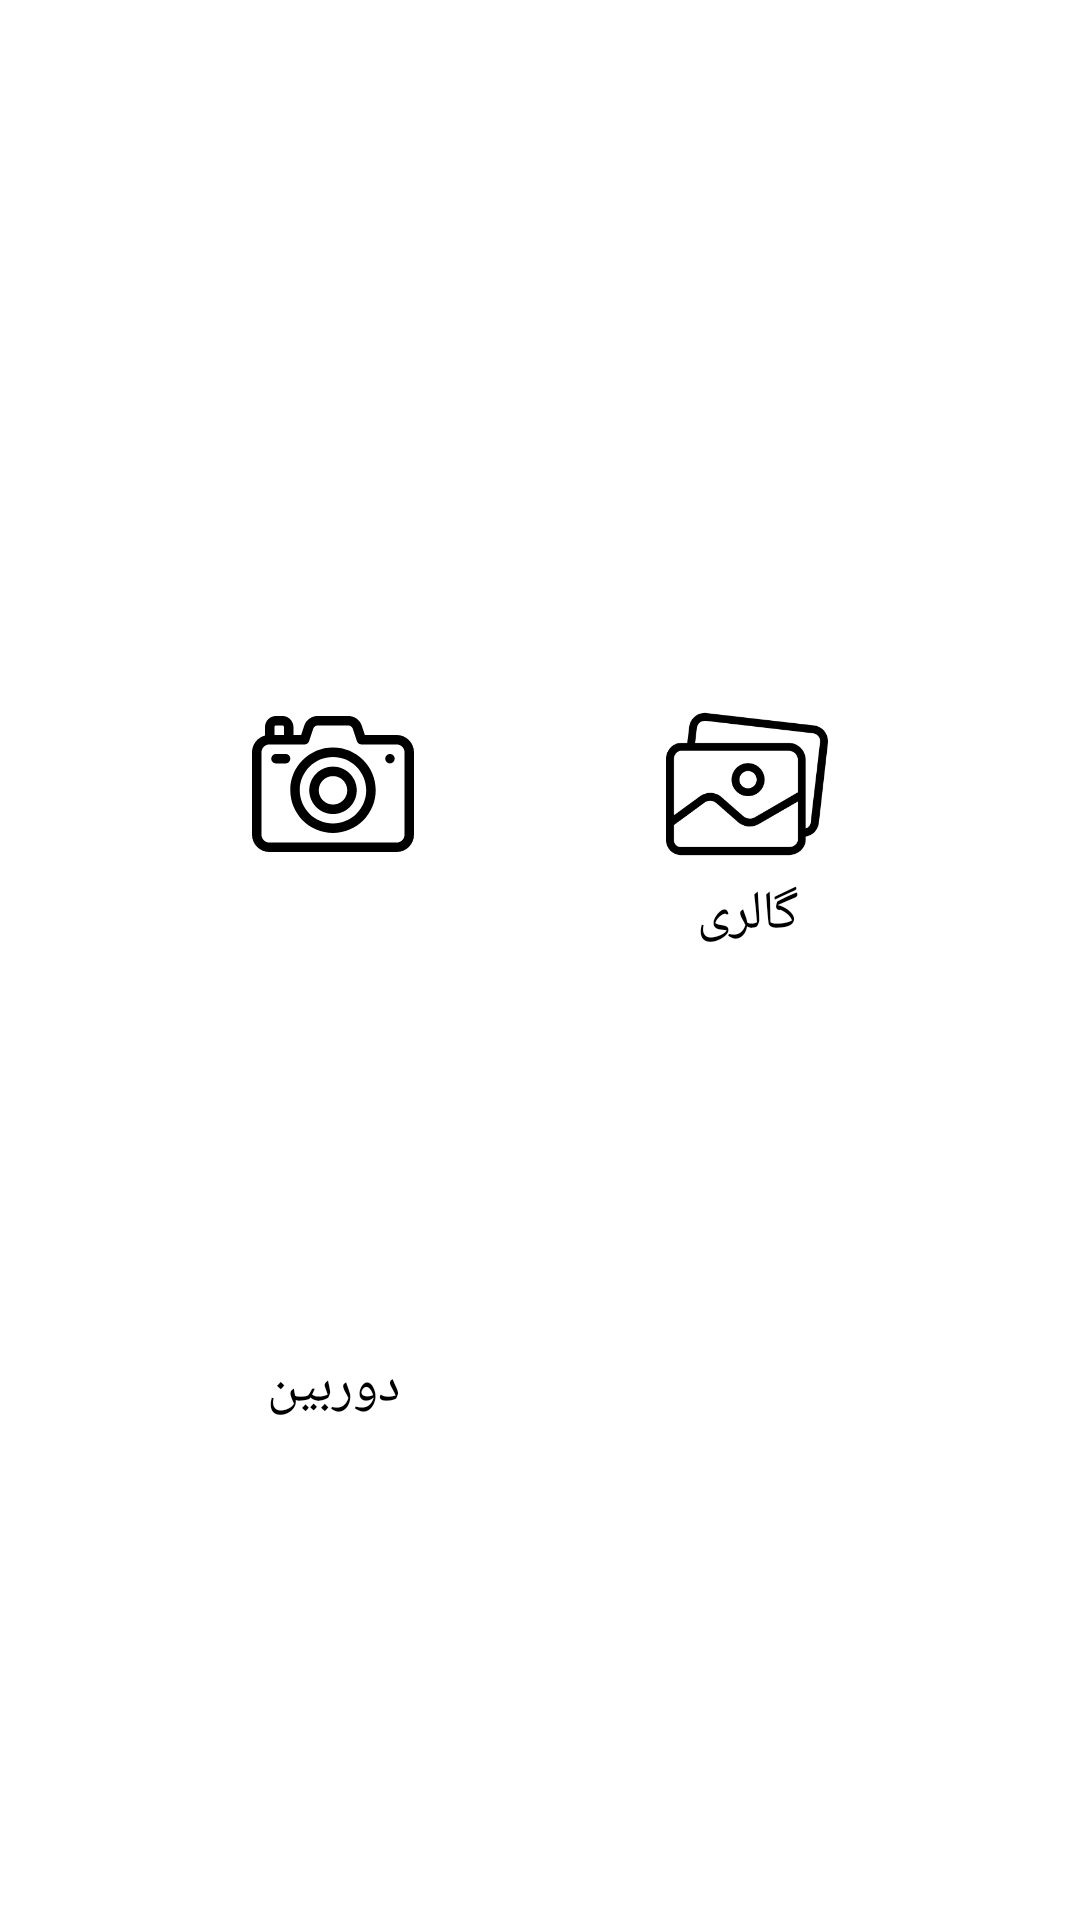

Locate icon controls on the screen. Image size 1080×1920, boxes as (x1, y1, x2, y2).
camera: (252, 716, 414, 852)
